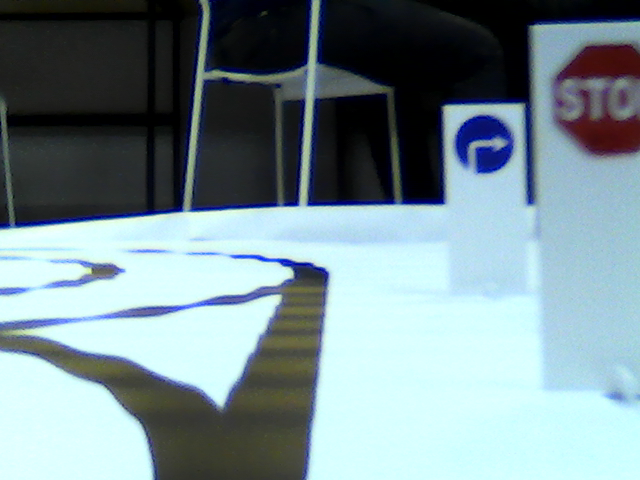Right: (449, 114, 515, 172)
Stop: (547, 37, 640, 159)
